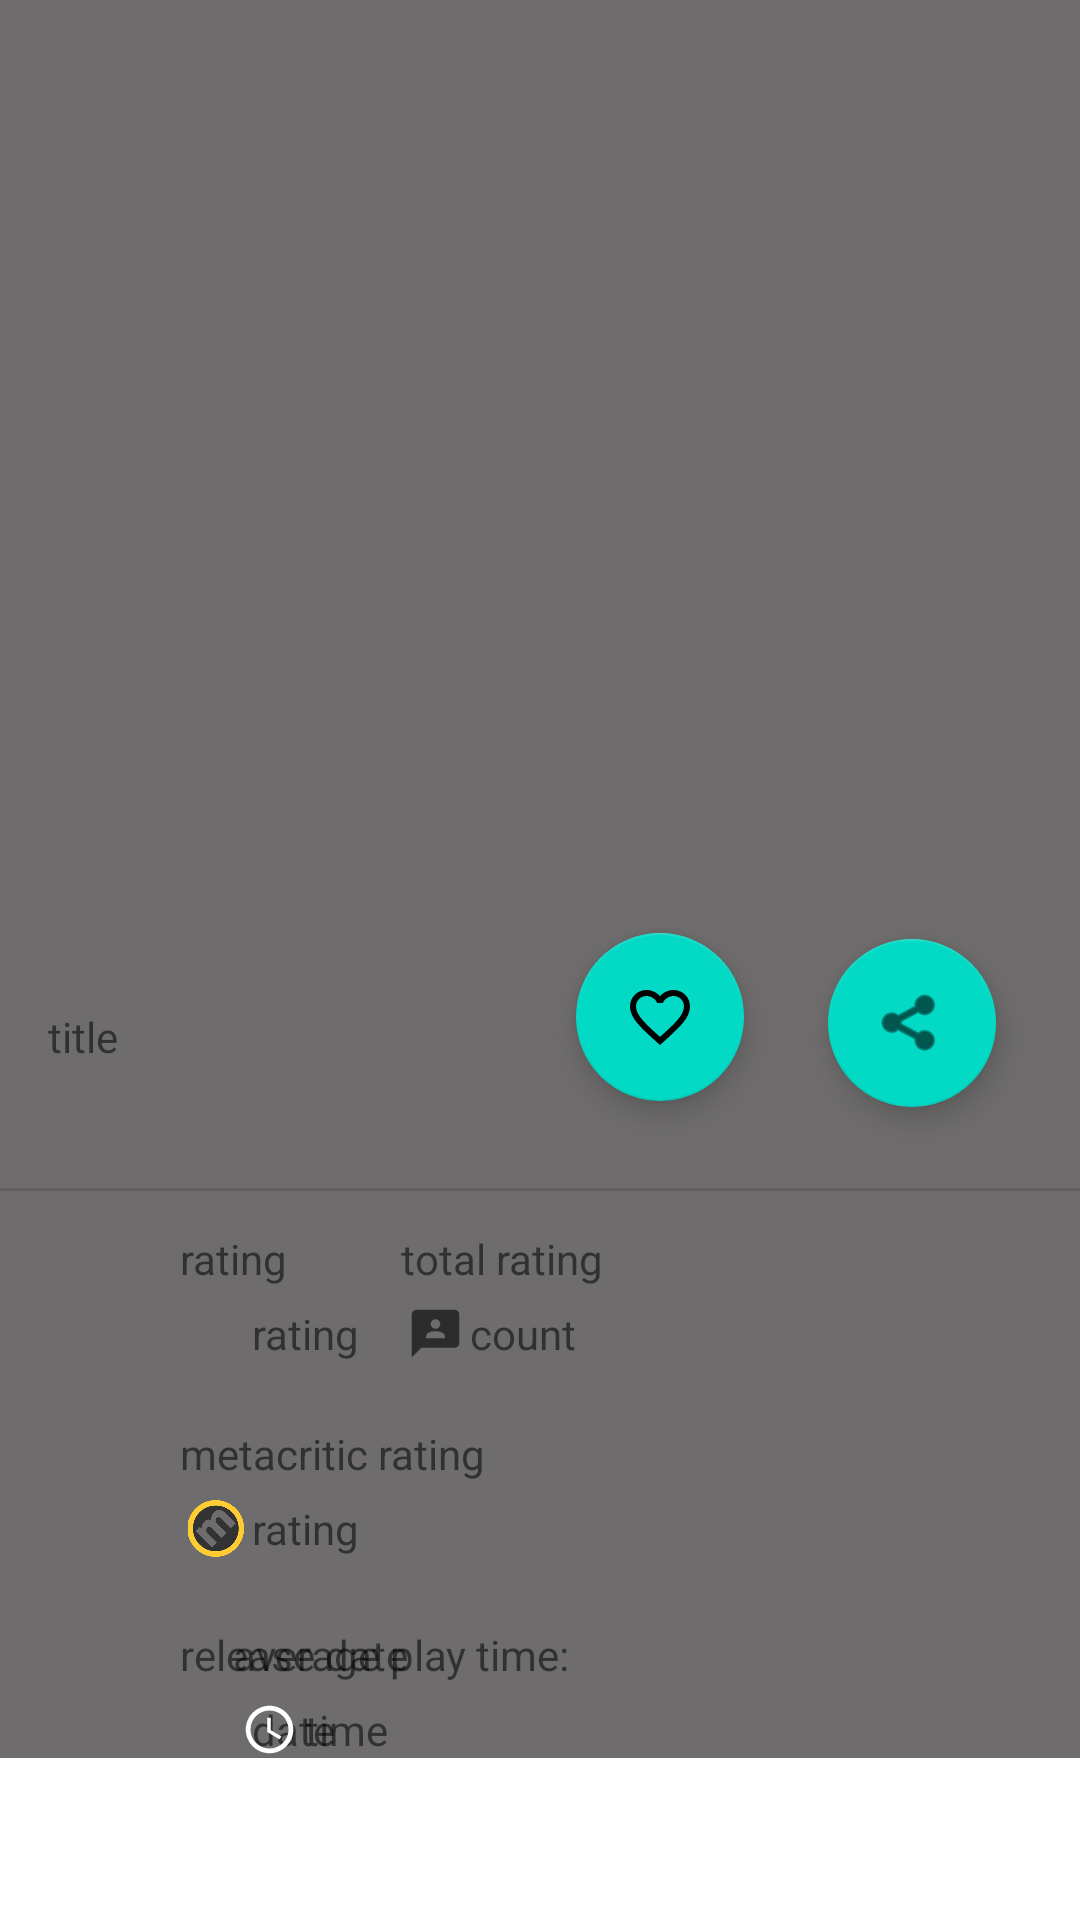

Screen size 1080×1920. Icon name, then its center in pixels as [x,y]:
game favourite: [660,1017]
game share: [912,1023]
